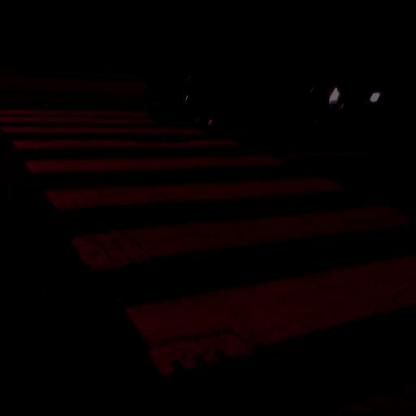crosswalk: (20, 151, 358, 215)
